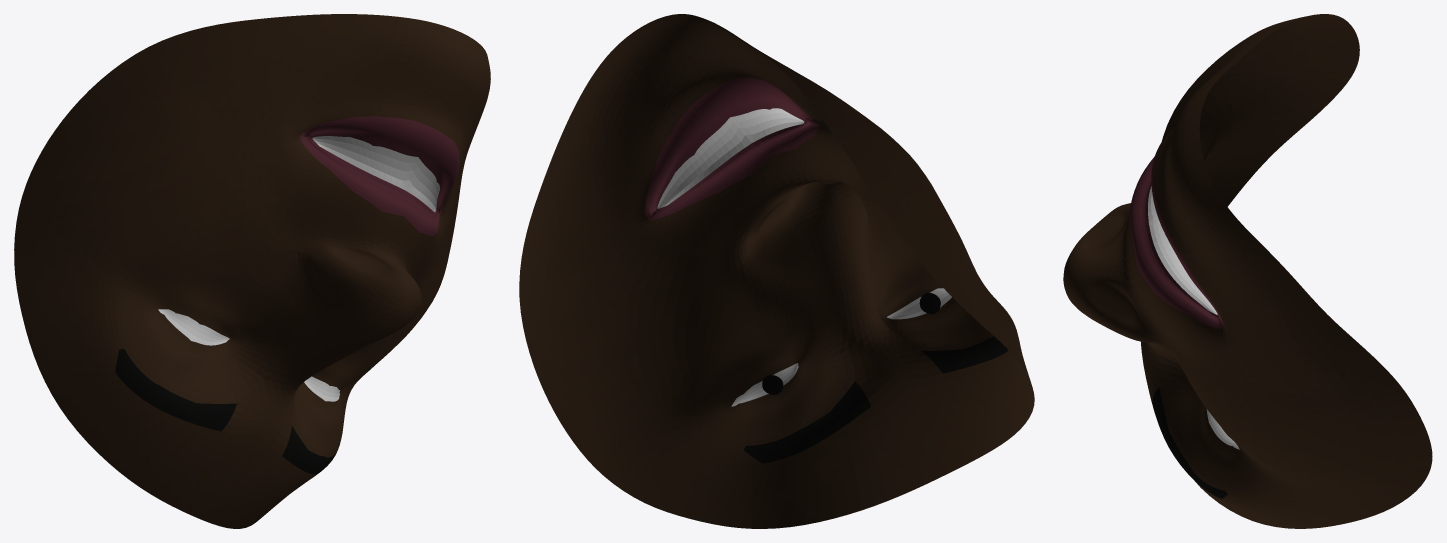
File: IMG_3704.obj
3 renders of one model, left to right at view 1: azimuth 30°, elevation 25°; view 2: azimuth 150°, elevation 25°; view 3: azimuth 270°, elevation 25°, orthographic. The views are drawn at different scales.
Visible parts, largest first — view 1: face_mesh_subdivided; view 2: face_mesh_subdivided; view 3: face_mesh_subdivided.
Boxes of the visible parts, box(x1,y1,x2,y2) form: face_mesh_subdivided: box(14, 14, 490, 528); face_mesh_subdivided: box(519, 14, 1034, 528); face_mesh_subdivided: box(1063, 14, 1432, 528).
Bounding box in the file's own units: 0.7099 × 0.7138 × 0.4802.
